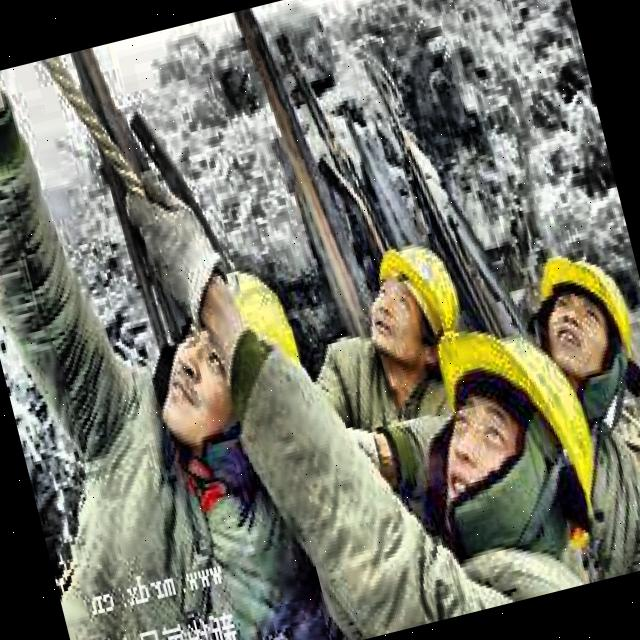helmet: (396, 302, 616, 556), (130, 250, 322, 450), (523, 237, 640, 392), (350, 235, 475, 372)
